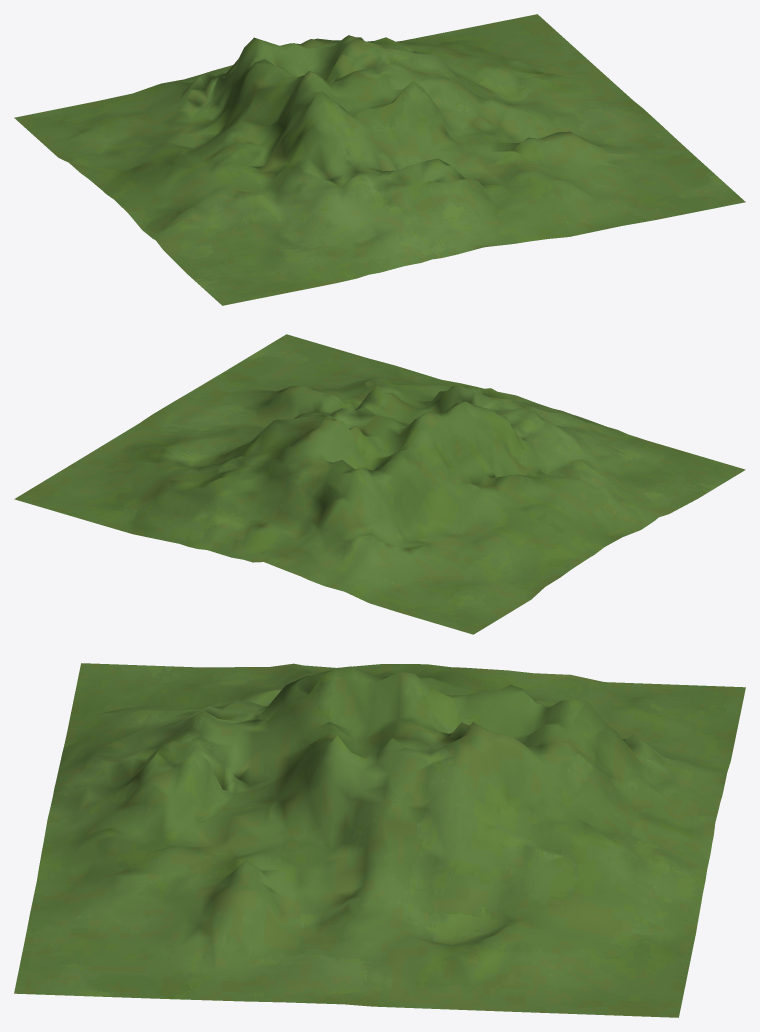
Rendered from Mountain 2.fbx.
3 renders of one model, top to bottom at view 1: azimuth 30°, elevation 25°; view 2: azimuth 150°, elevation 25°; view 3: azimuth 270°, elevation 25°, orthographic. The views are drawn at different scales.
Visible parts, largest first — view 1: _2__2_; view 2: _2__2_; view 3: _2__2_.
Part boxes in pixels (left/top/right/bottom): _2__2_: left=14, top=14, right=745, bottom=305; _2__2_: left=14, top=334, right=745, bottom=634; _2__2_: left=14, top=663, right=745, bottom=1017.
Size of the model in its own units: 10601 by 1803 by 9247.
